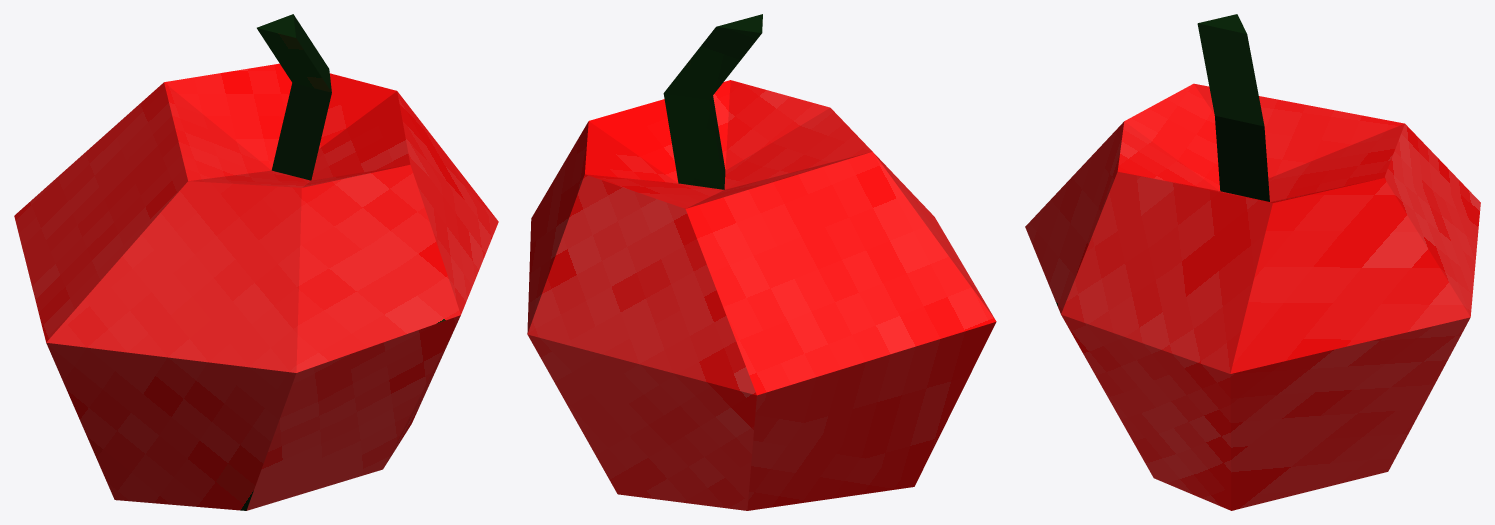
File: Apple_final.fbx
3 renders of one model, left to right at view 1: azimuth 30°, elevation 25°; view 2: azimuth 150°, elevation 25°; view 3: azimuth 270°, elevation 25°, orthographic.
Parts seen in each view (by area): view 1: Cube; view 2: Cube; view 3: Cube.
Boxes of the visible parts, x1,y1,x2,y2 form: Cube: (14,14,498,510); Cube: (527,14,996,510); Cube: (1025,14,1480,510).
Bounding box in the file's own units: 246 × 284 × 252.
Materials: 1 (1 with a texture image).
